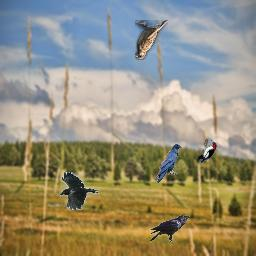Crow: (59, 172, 99, 210), (150, 215, 190, 243), (155, 143, 182, 183)
Sparrow: (135, 20, 168, 60)
Woodpecker: (197, 138, 218, 164)
